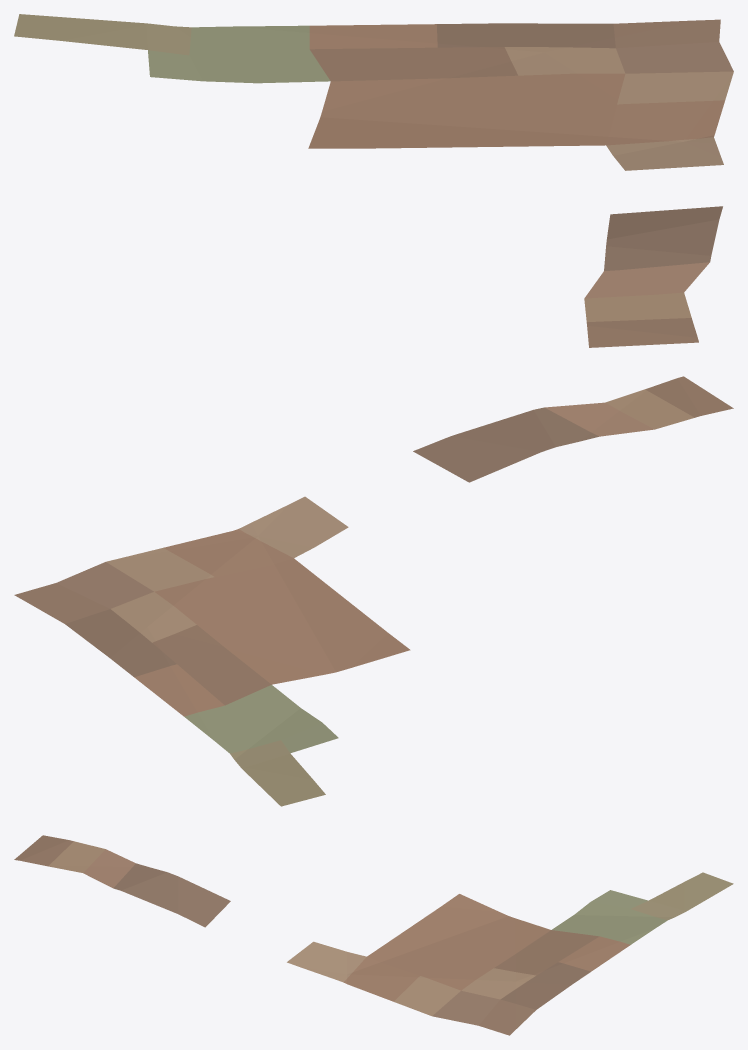
Rendered from farm_-28_-26_soil.glb.
3 views of the same model, one above another, from view 1: azimuth 30°, elevation 25°; view 2: azimuth 150°, elevation 25°; view 3: azimuth 270°, elevation 25° (orthographic). The views are drawn at different scales.
Visible parts, largest first — view 1: geometry_0; view 2: geometry_0; view 3: geometry_0.
Part boxes in pixels (left/top/right/bottom): geometry_0: left=14, top=14, right=733, bottom=347; geometry_0: left=14, top=376, right=733, bottom=806; geometry_0: left=14, top=835, right=733, bottom=1035.
Bounding box in the file's own units: 183 × 27.36 × 342.
